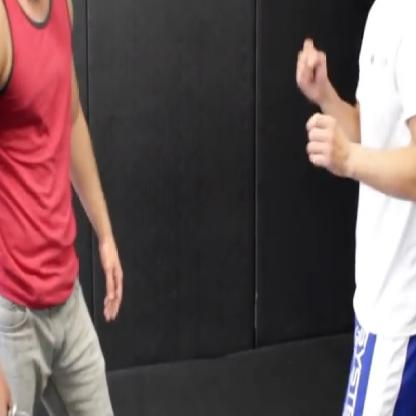knife: (0, 377, 77, 415)
